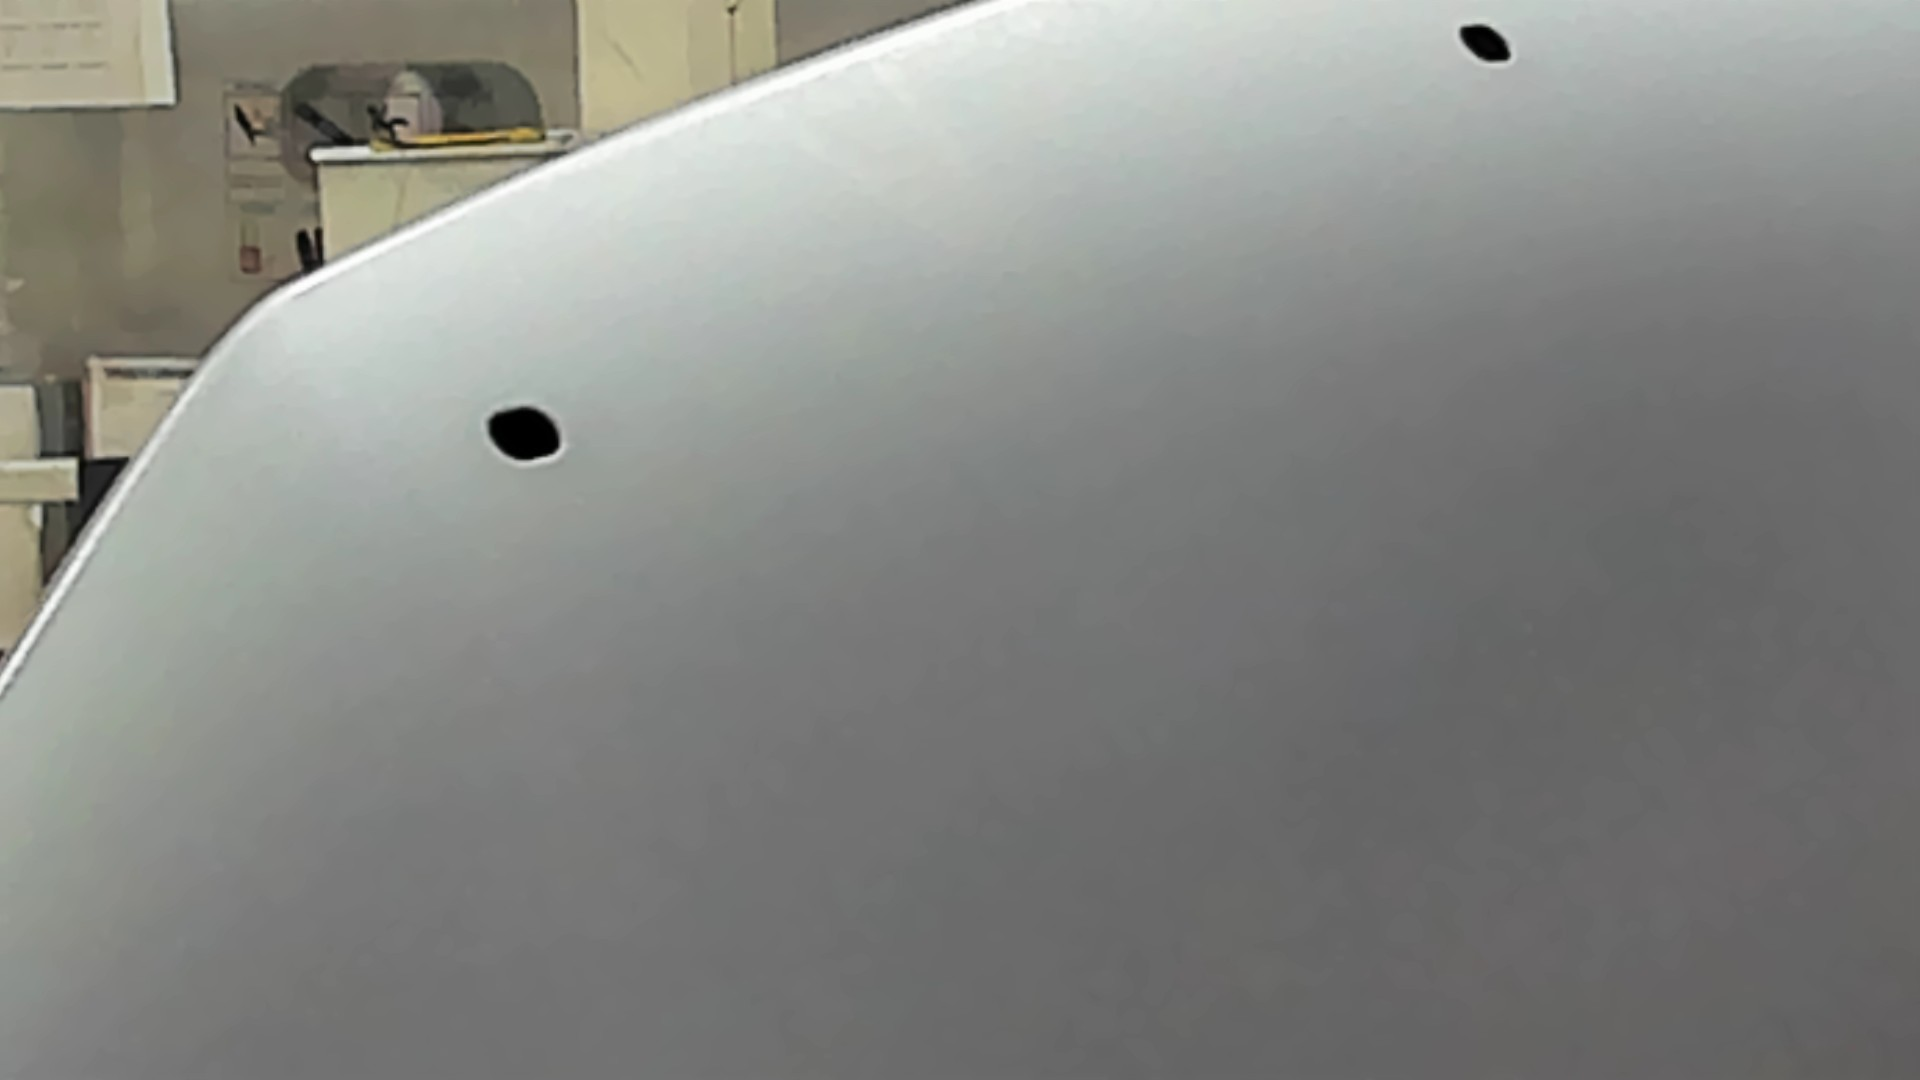Agujero: (483, 405, 567, 465), (1456, 21, 1514, 67)
